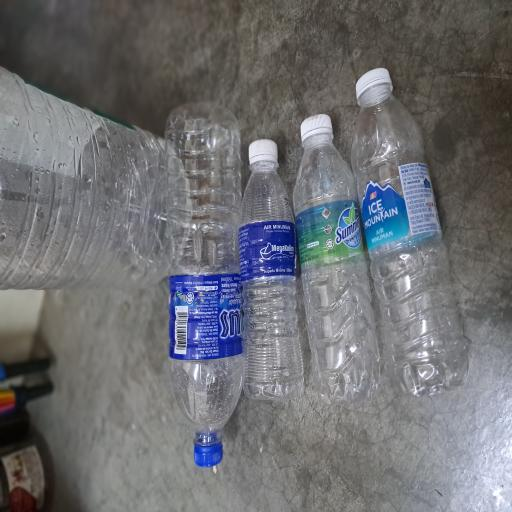plastic bottle: (168, 0, 339, 254), (57, 221, 307, 325), (82, 390, 280, 508), (83, 318, 264, 406), (86, 468, 319, 512)
plastic bottle cap: (306, 473, 334, 512), (279, 400, 299, 446), (34, 258, 51, 298), (264, 331, 280, 371)
